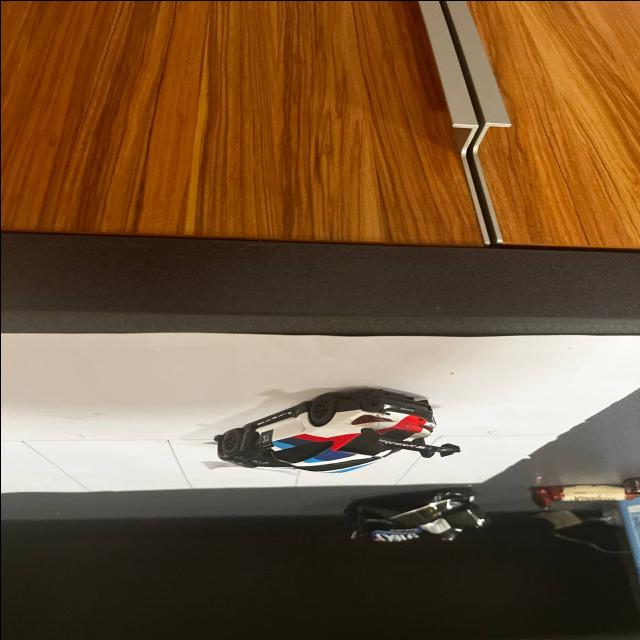cars: (173, 366, 504, 485)
